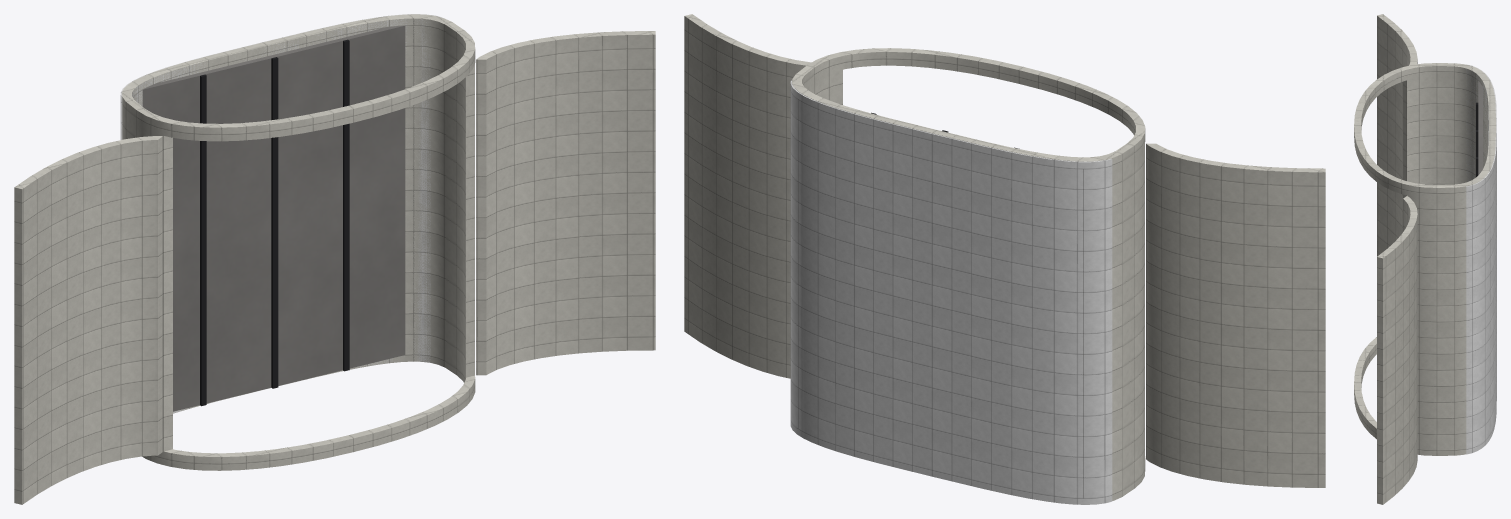
File: aero03_cargo_bay_mk2_250_open.glb
The picture shows the model from 3 angles, left to right: view 1: azimuth 30°, elevation 25°; view 2: azimuth 150°, elevation 25°; view 3: azimuth 270°, elevation 25°; orthographic projection. The views are drawn at different scales.
Parts seen in each view (by area): view 1: cargo_floor, door_r, door_l, fuselage, floor_rails, belly_tiles; view 2: belly_tiles, door_l, door_r, fuselage; view 3: fuselage, door_r, belly_tiles, door_l, cargo_floor, floor_rails.
Boxes of the visible parts, <box> form: cargo_floor: <box>142,25,405,411</box>; door_r: <box>476,31,655,375</box>; door_l: <box>14,136,163,504</box>; fuselage: <box>122,14,475,470</box>; floor_rails: <box>200,39,349,406</box>; belly_tiles: <box>120,14,441,413</box>; belly_tiles: <box>790,80,1112,504</box>; door_l: <box>1146,143,1325,487</box>; door_r: <box>684,14,811,378</box>; fuselage: <box>792,48,1145,500</box>; fuselage: <box>1354,63,1495,455</box>; door_r: <box>1377,196,1417,504</box>; belly_tiles: <box>1466,64,1496,454</box>; door_l: <box>1377,14,1417,256</box>; cargo_floor: <box>1478,81,1482,174</box>; floor_rails: <box>1476,102,1478,177</box>.
Bounding box in the file's own units: 4.89 × 2.5 × 1.21.
4 materials, 3 textured.
